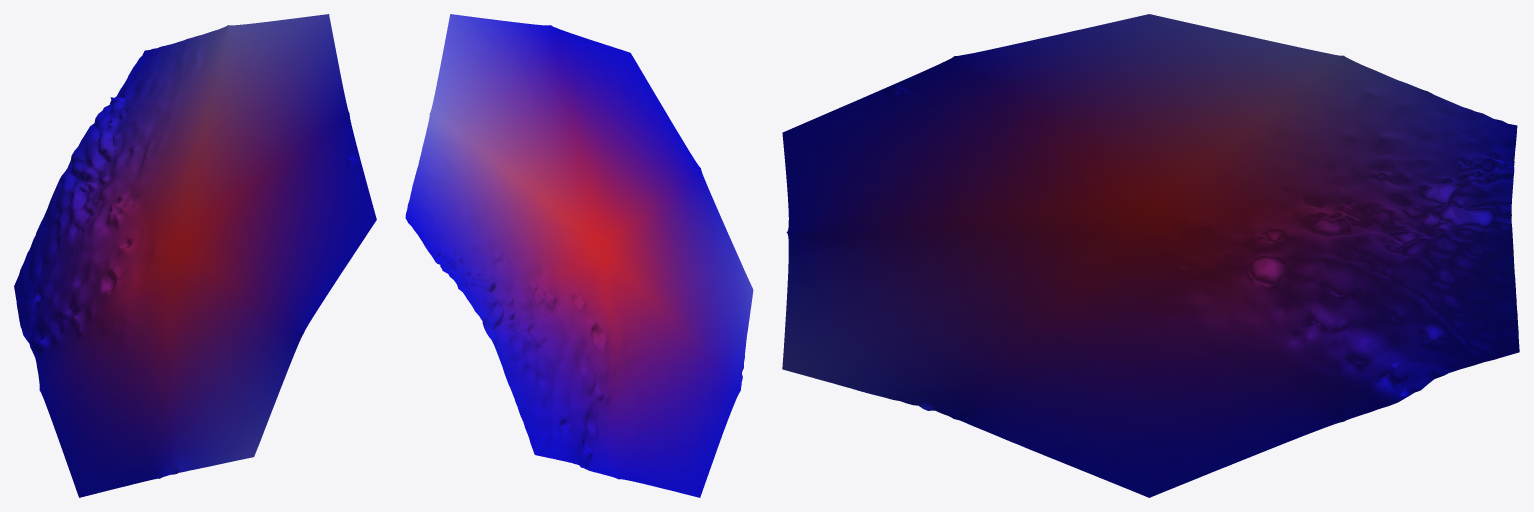
The model's file is Hex_15.fbx.
3 renders of one model, left to right at view 1: azimuth 30°, elevation 25°; view 2: azimuth 150°, elevation 25°; view 3: azimuth 270°, elevation 25°, orthographic. The views are drawn at different scales.
Visible parts, largest first — view 1: Hex_15; view 2: Hex_15; view 3: Hex_15.
Part boxes in pixels (left/top/right/bottom): Hex_15: left=14, top=14, right=376, bottom=497; Hex_15: left=405, top=14, right=753, bottom=497; Hex_15: left=782, top=14, right=1519, bottom=497.
Size of the model in its own units: 274 by 443 by 436.
